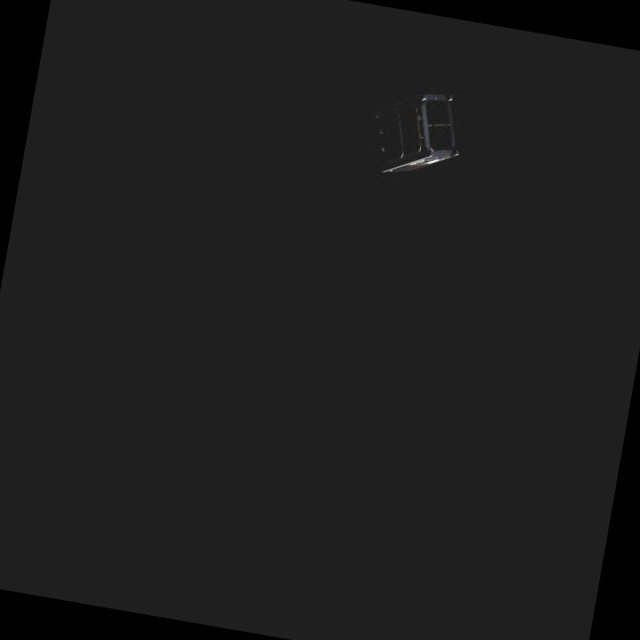satellite: (357, 71, 484, 196)
